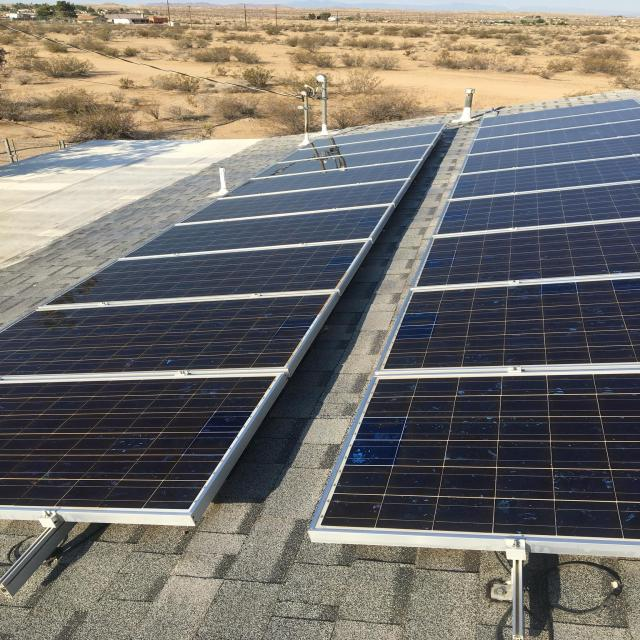dust-solar-panel: (318, 277, 640, 550)
